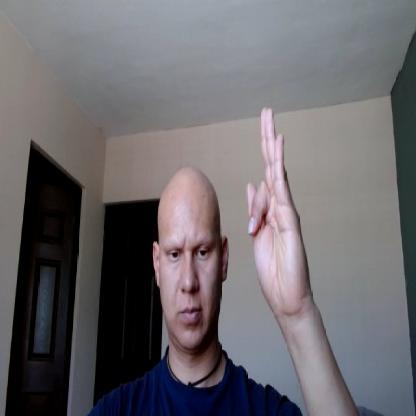F: (245, 108, 306, 314)
